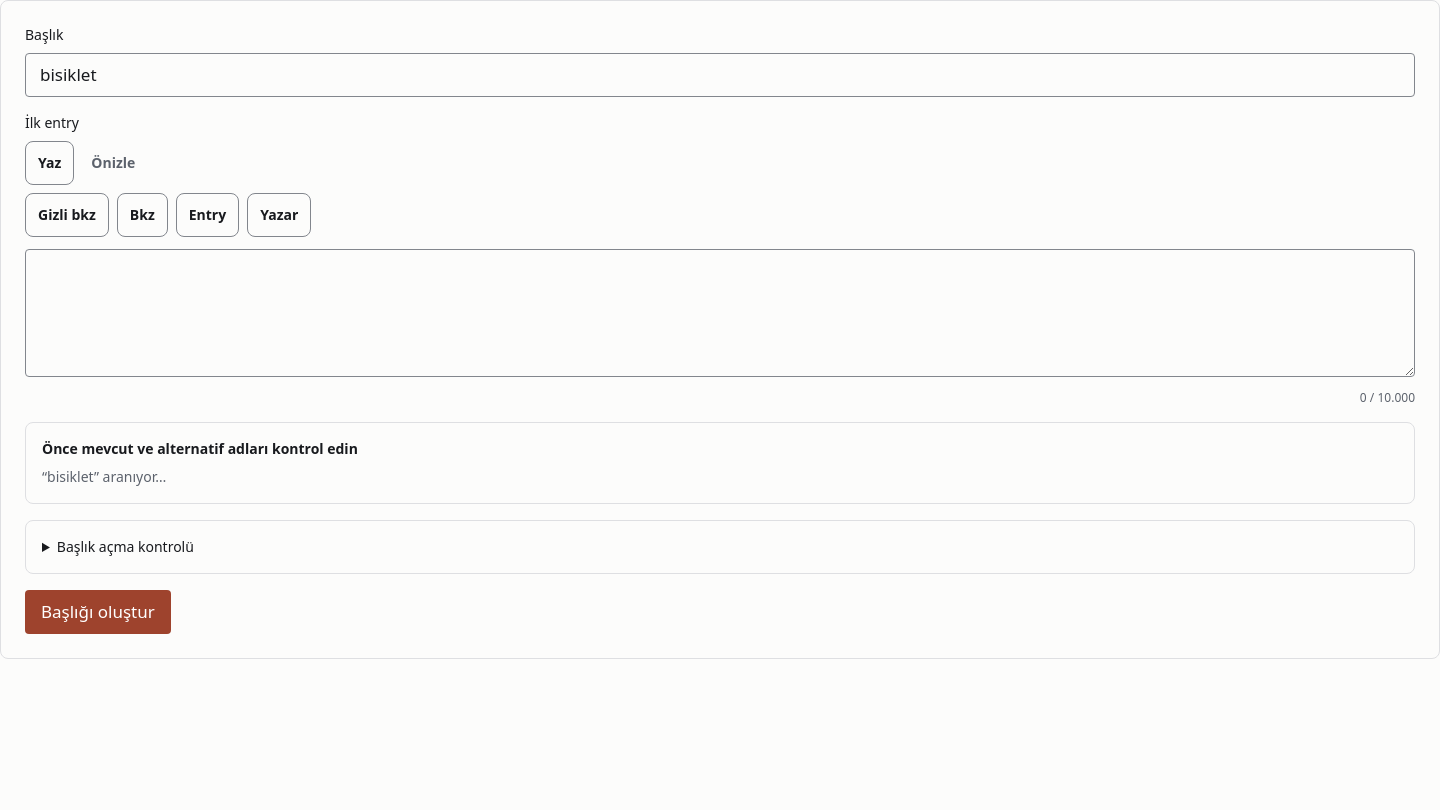
Test: /baslik/ac?title= prefill › does not block further typing
The image size is (1440, 810).
In the field labelled "Başlık": (720, 75) x1=25 y1=53 x2=1415 y2=97, type " yolları"
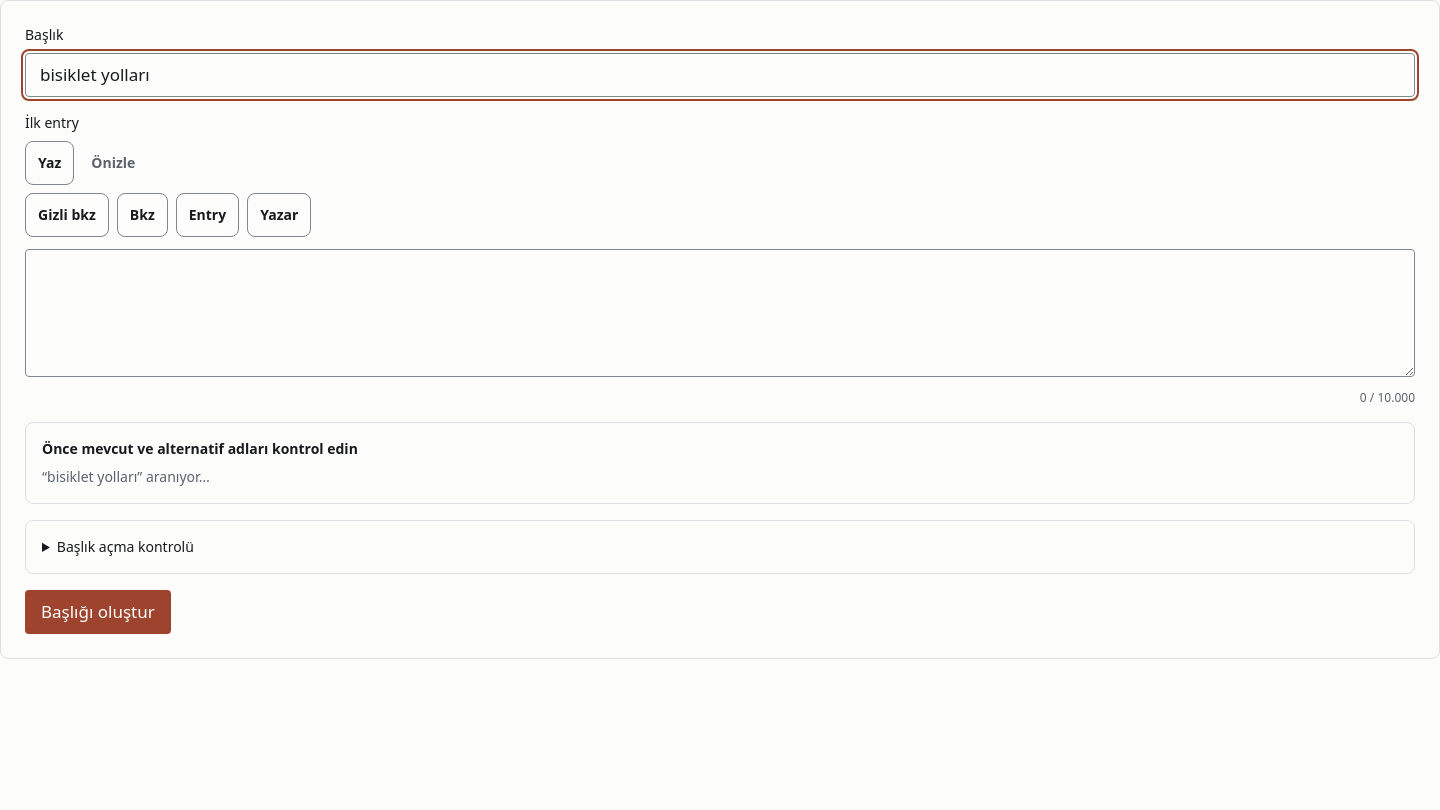
Now the field labelled "Başlık" holds "bisiklet yolları", box x1=25 y1=53 x2=1415 y2=97
